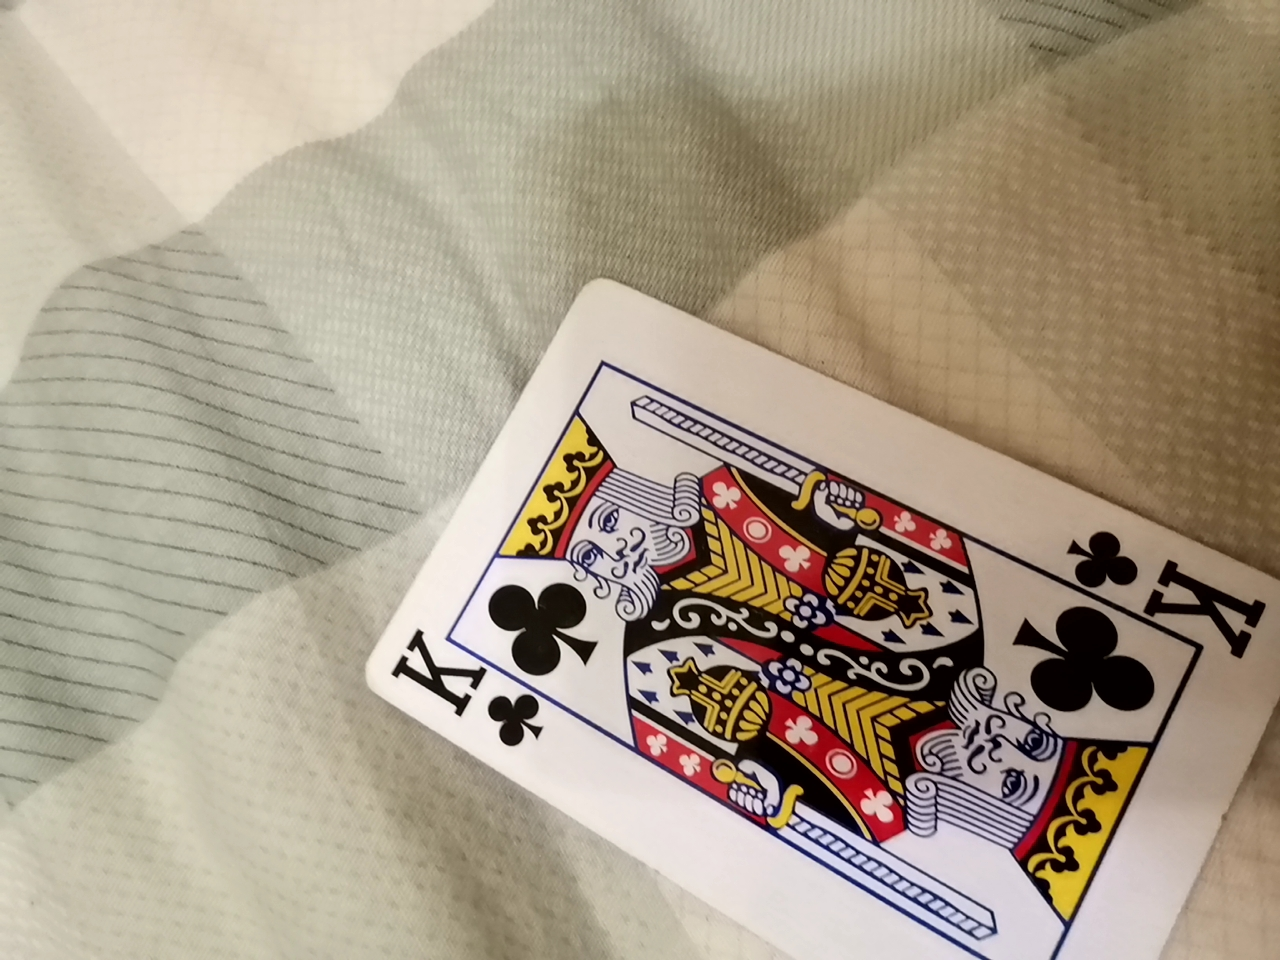mh k: (315, 260, 1260, 953)
